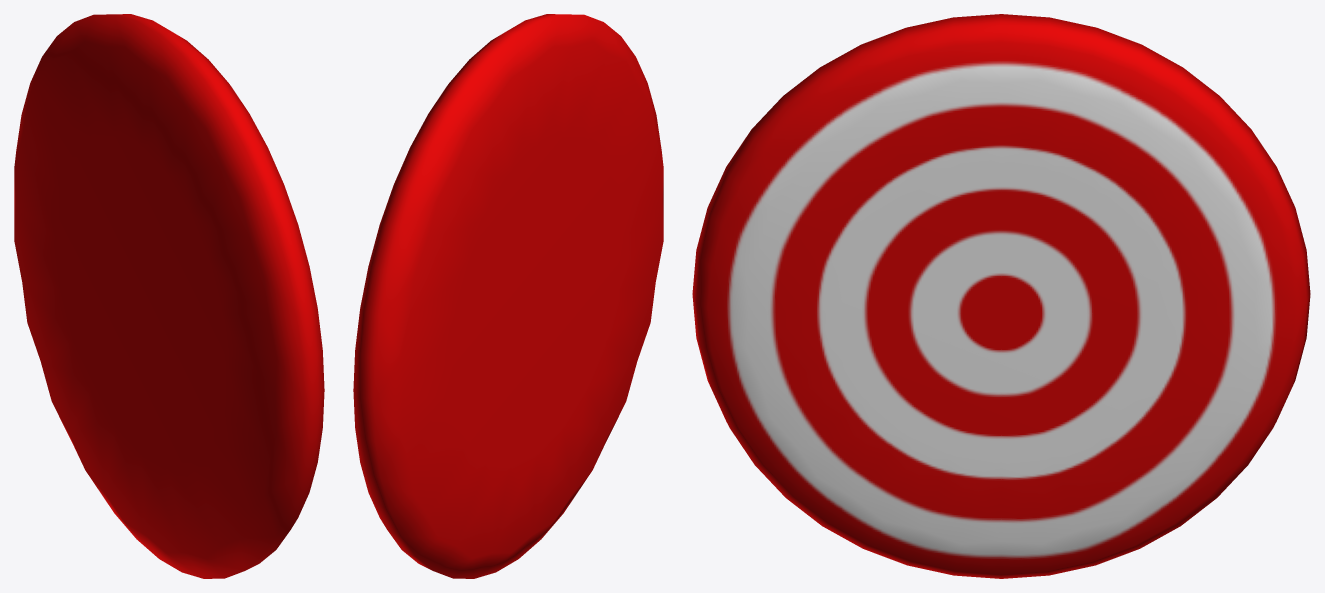
The model's file is target.fbx.
3 renders of one model, left to right at view 1: azimuth 30°, elevation 25°; view 2: azimuth 150°, elevation 25°; view 3: azimuth 270°, elevation 25°, orthographic. The views are drawn at different scales.
Visible parts, largest first — view 1: pCylinder1; view 2: pCylinder1; view 3: pCylinder1.
Boxes of the visible parts, left/top/right/bottom form: pCylinder1: left=14, top=14, right=324, bottom=578; pCylinder1: left=353, top=14, right=663, bottom=578; pCylinder1: left=692, top=14, right=1310, bottom=578.
Size of the model in its own units: 1.55 by 13.91 by 13.91.
